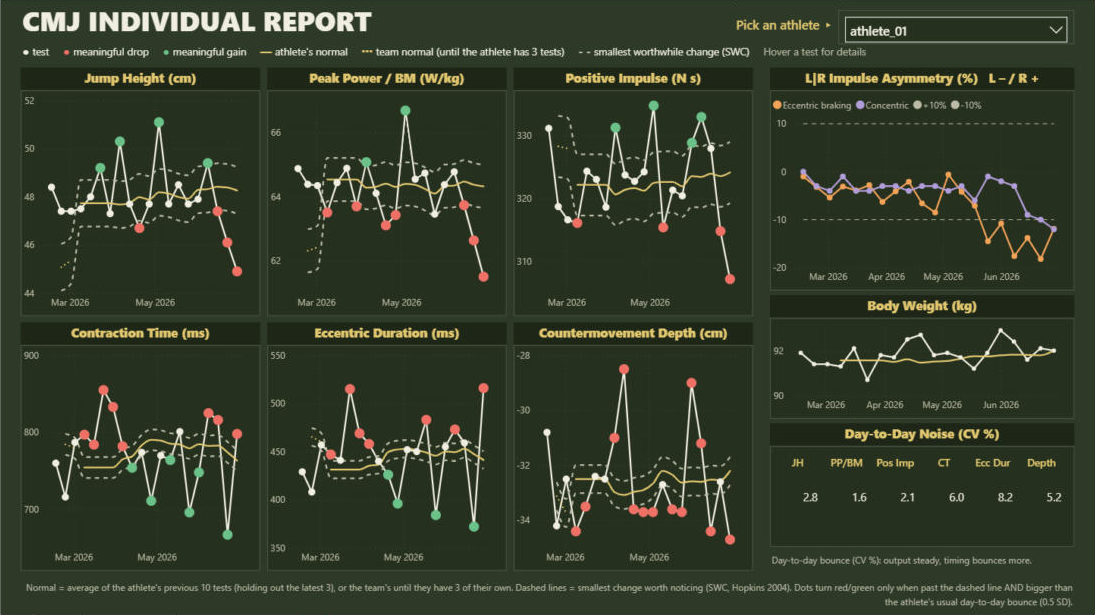

Layout of this report page (visuals, bound fields, positions):
{"tool":"powerbi","page":{"name":"CMJ Individual Report","canvas":[1280,720],"ordinal":1},"visuals":[{"type":"textbox","box":[24,0,640,50],"z":1100},{"type":"slicer","fields":{"Values":["athleteid.Name"]},"box":[980,12,276,40],"z":1200},{"type":"textbox","box":[24,50,1232,24],"z":1300},{"type":"textbox","box":[24,80,280,26],"z":1400},{"type":"textbox","box":[790,18,186,28],"z":1500},{"type":"lineChart","fields":{"Category":["CMJ Data.Date"],"Y":["Metric Table.JH Trend","Metric Table.JH Normal","Metric Table.JH Team Normal","Metric Table.JH SWC +","Metric Table.JH SWC -","Metric Table.JH Flag","Metric Table.JH Better"]},"box":[24,106,280,264],"z":1500},{"type":"textbox","box":[312,80,280,26],"z":1600},{"type":"lineChart","fields":{"Category":["CMJ Data.Date"],"Y":["Metric Table.PP/BM Trend","Metric Table.PP/BM Normal","Metric Table.PP/BM Team Normal","Metric Table.PP/BM SWC +","Metric Table.PP/BM SWC -","Metric Table.PP/BM Flag","Metric Table.PP/BM Better"]},"box":[312,106,280,264],"z":1700},{"type":"textbox","box":[600,80,280,26],"z":1800},{"type":"lineChart","fields":{"Category":["CMJ Data.Date"],"Y":["Metric Table.Pos Impulse Trend","Metric Table.Pos Impulse Normal","Metric Table.Pos Impulse Team Normal","Metric Table.Pos Impulse SWC +","Metric Table.Pos Impulse SWC -","Metric Table.Pos Impulse Flag","Metric Table.Pos Impulse Better"]},"box":[600,106,280,264],"z":1900},{"type":"textbox","box":[24,378,280,26],"z":2000},{"type":"lineChart","fields":{"Category":["CMJ Data.Date"],"Y":["Metric Table.CT Trend","Metric Table.CT Normal","Metric Table.CT Team Normal","Metric Table.CT SWC +","Metric Table.CT SWC -","Metric Table.CT Flag","Metric Table.CT Better"]},"box":[24,404,280,264],"z":2100},{"type":"textbox","box":[312,378,280,26],"z":2200},{"type":"lineChart","fields":{"Category":["CMJ Data.Date"],"Y":["Metric Table.Ecc Dur Trend","Metric Table.Ecc Dur Normal","Metric Table.Ecc Dur Team Normal","Metric Table.Ecc Dur SWC +","Metric Table.Ecc Dur SWC -","Metric Table.Ecc Dur Flag","Metric Table.Ecc Dur Better"]},"box":[312,404,280,264],"z":2300},{"type":"textbox","box":[600,378,280,26],"z":2400},{"type":"lineChart","fields":{"Category":["CMJ Data.Date"],"Y":["Metric Table.CM Depth Trend","Metric Table.CM Depth Normal","Metric Table.CM Depth Team Normal","Metric Table.CM Depth SWC +","Metric Table.CM Depth SWC -","Metric Table.CM Depth Flag"]},"box":[600,404,280,264],"z":2500},{"type":"textbox","box":[900,80,356,26],"z":2600},{"type":"lineChart","fields":{"Category":["CMJ Data.Date"],"Y":["Metric Table.Ecc Asym Trend","Metric Table.Conc Asym Trend","Metric Table.Asym Guide +","Metric Table.Asym Guide -"]},"box":[900,106,356,234],"z":2700},{"type":"textbox","box":[900,346,356,26],"z":2750},{"type":"lineChart","fields":{"Category":["CMJ Data.Date"],"Y":["Metric Table.BW Trend","Metric Table.BW Normal"]},"box":[900,372,356,118],"z":2760},{"type":"textbox","box":[900,496,356,26],"z":2800},{"type":"tableEx","fields":{"Values":["Metric Table.JH CV %","Metric Table.PP/BM CV %","Metric Table.Pos Impulse CV %","Metric Table.CT CV %","Metric Table.Ecc Dur CV %","Metric Table.CM Depth CV %"]},"box":[900,522,356,118],"z":2900},{"type":"textbox","box":[900,644,356,22],"z":3000},{"type":"textbox","box":[24,676,1232,40],"z":3100}]}

Visuals, with their boxes in screenshot pixels (x1, y1, x2, y2), scaled from the page's 1280x720 canvas onto the 1095x615 screenshot:
textbox: detection(21, 0, 568, 43)
slicer - athleteid.Name: detection(838, 10, 1074, 44)
textbox: detection(21, 43, 1074, 63)
textbox: detection(21, 68, 260, 91)
textbox: detection(676, 15, 835, 39)
lineChart - CMJ Data.Date x Metric Table.JH Trend: detection(21, 91, 260, 316)
textbox: detection(267, 68, 506, 91)
lineChart - CMJ Data.Date x Metric Table.PP/BM Trend: detection(267, 91, 506, 316)
textbox: detection(513, 68, 753, 91)
lineChart - CMJ Data.Date x Metric Table.Pos Impulse Trend: detection(513, 91, 753, 316)
textbox: detection(21, 323, 260, 345)
lineChart - CMJ Data.Date x Metric Table.CT Trend: detection(21, 345, 260, 571)
textbox: detection(267, 323, 506, 345)
lineChart - CMJ Data.Date x Metric Table.Ecc Dur Trend: detection(267, 345, 506, 571)
textbox: detection(513, 323, 753, 345)
lineChart - CMJ Data.Date x Metric Table.CM Depth Trend: detection(513, 345, 753, 571)
textbox: detection(770, 68, 1074, 91)
lineChart - CMJ Data.Date x Metric Table.Ecc Asym Trend: detection(770, 91, 1074, 290)
textbox: detection(770, 296, 1074, 318)
lineChart - CMJ Data.Date x Metric Table.BW Trend: detection(770, 318, 1074, 419)
textbox: detection(770, 424, 1074, 446)
tableEx - Metric Table.JH CV % x Metric Table.PP/BM CV %: detection(770, 446, 1074, 547)
textbox: detection(770, 550, 1074, 569)
textbox: detection(21, 577, 1074, 612)
